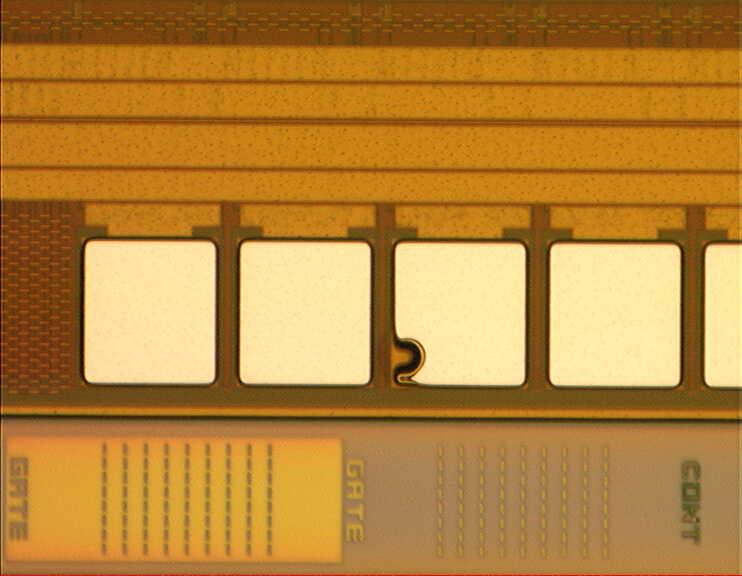PIQ PARTICLE: (381, 330, 434, 392)
